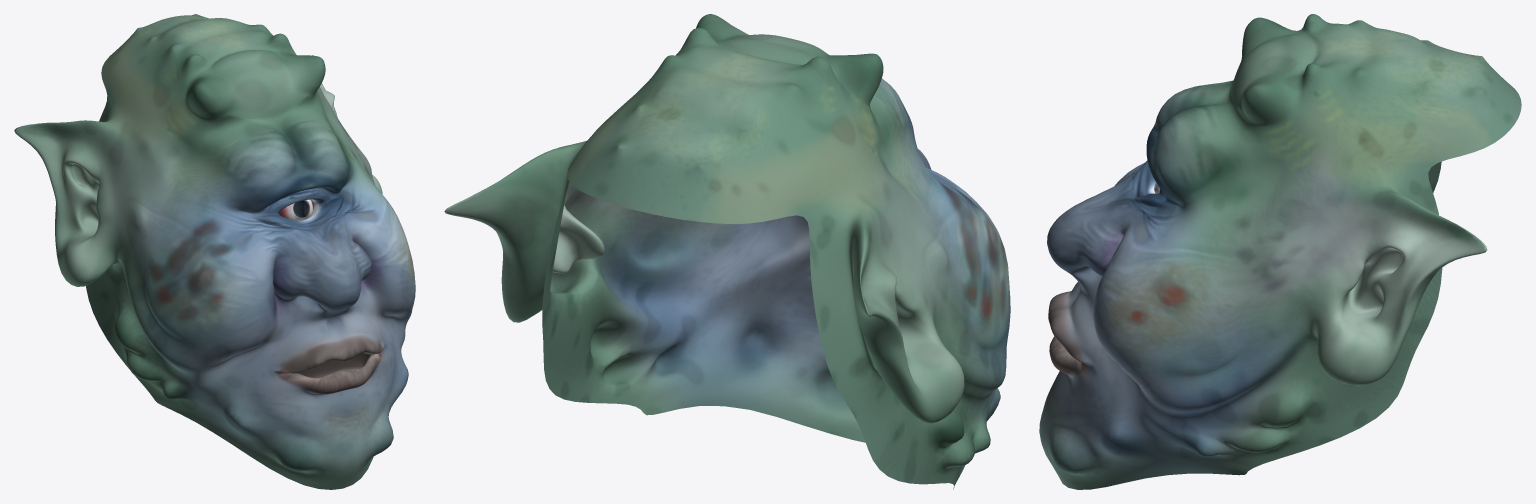
File: bs_rest.obj
The picture shows the model from 3 angles, left to right: view 1: azimuth 30°, elevation 25°; view 2: azimuth 150°, elevation 25°; view 3: azimuth 270°, elevation 25°; orthographic projection. The views are drawn at different scales.
Visible parts, largest first — view 1: ogre_00; view 2: ogre_00; view 3: ogre_00.
Part boxes in pixels (<box>): ogre_00: <box>14,14,415,489</box>; ogre_00: <box>444,14,1010,489</box>; ogre_00: <box>1039,14,1521,489</box>.
Bounding box in the file's own units: 1.06 × 1.19 × 1.18.
Materials: 1 (1 with a texture image).
